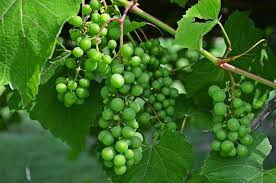grapes: (97, 47, 150, 174), (58, 1, 108, 107), (209, 79, 257, 160), (145, 38, 182, 125)
